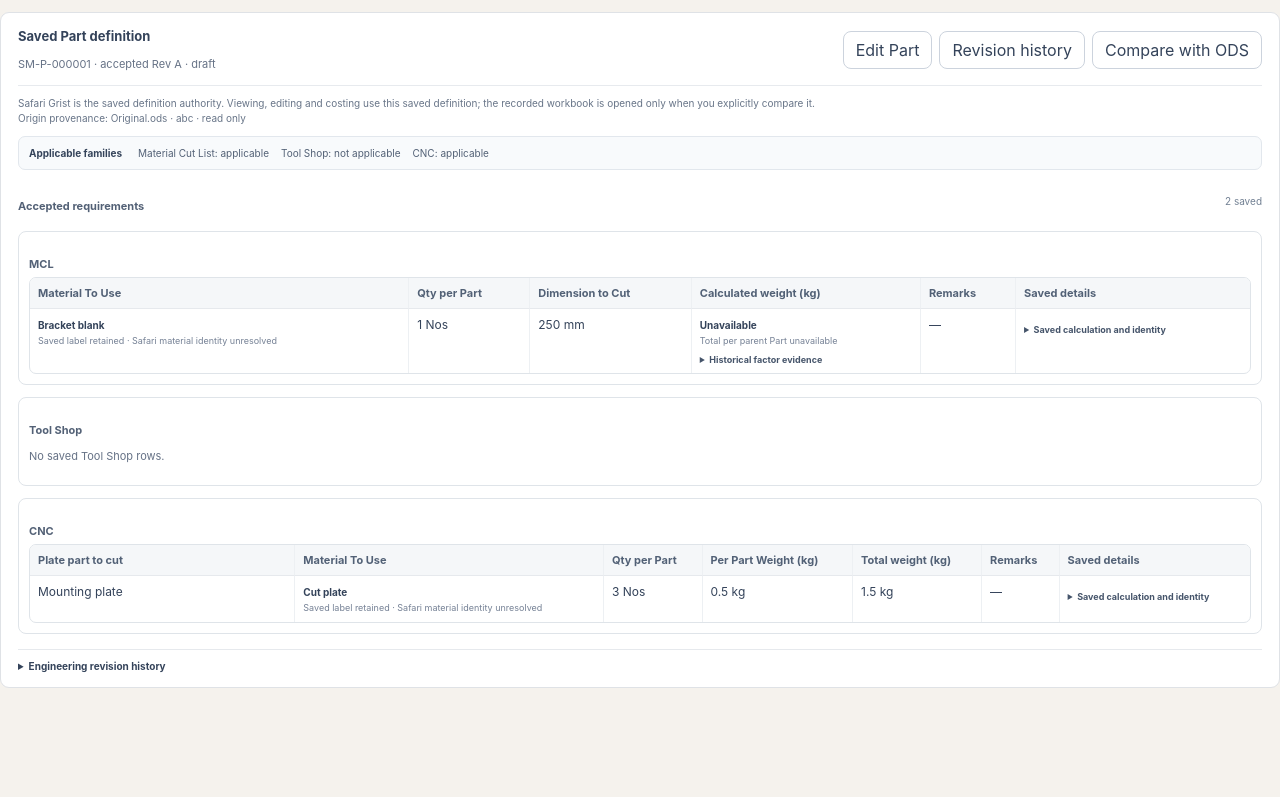
Scenario: shows saved MCL cut length and CNC per-part weight without conflating total weight
Check: the text "250 mm" is shown, box 530,308 -> 692,373
Check: the text "0.5 kg" is shown, box 702,576 -> 853,622
Click the heading "Saved calculation and identity" in the row of "Mounting plate": (1143,597) 1077,591 -> 1209,602
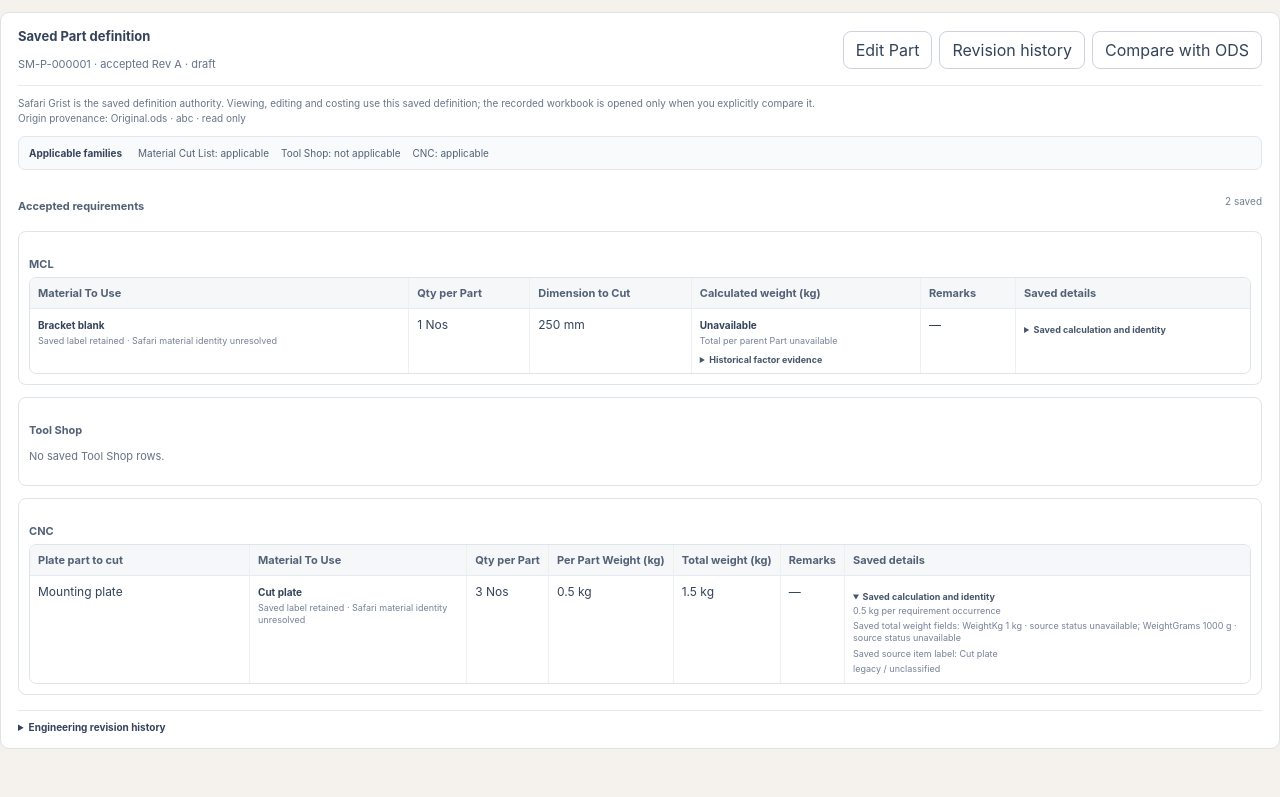
Check: the text "Saved total weight fields: WeightKg 1 kg" is shown, box 853,620 -> 1237,643
Click the button "Edit Part": (888,50) 843,31 -> 932,69
(page scrolled)
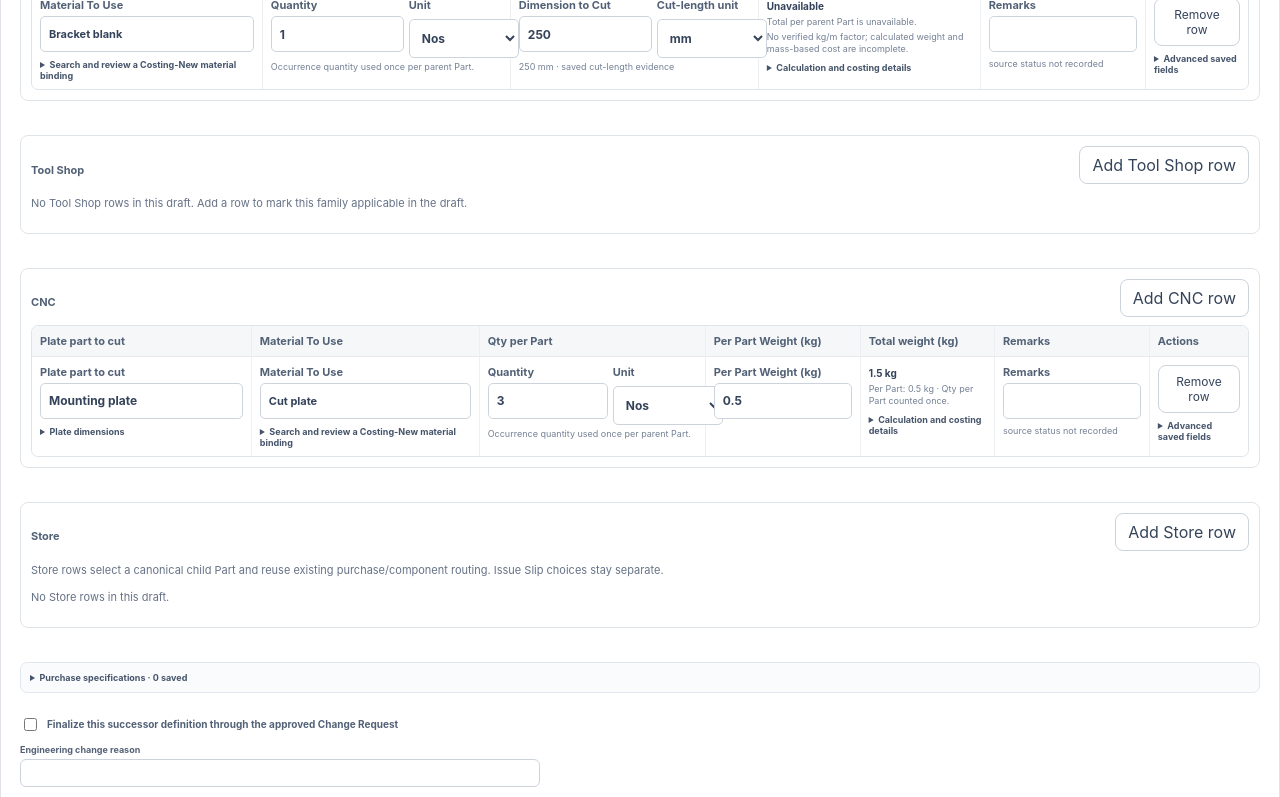
Check: the field named "Dimension to Cut — MCL row 1" holds "250", box 519,16 -> 652,52
Replace the text in the field named "Per Part Weight (kg) — CNC row 1" with "0.6": (783,400) 714,382 -> 852,418
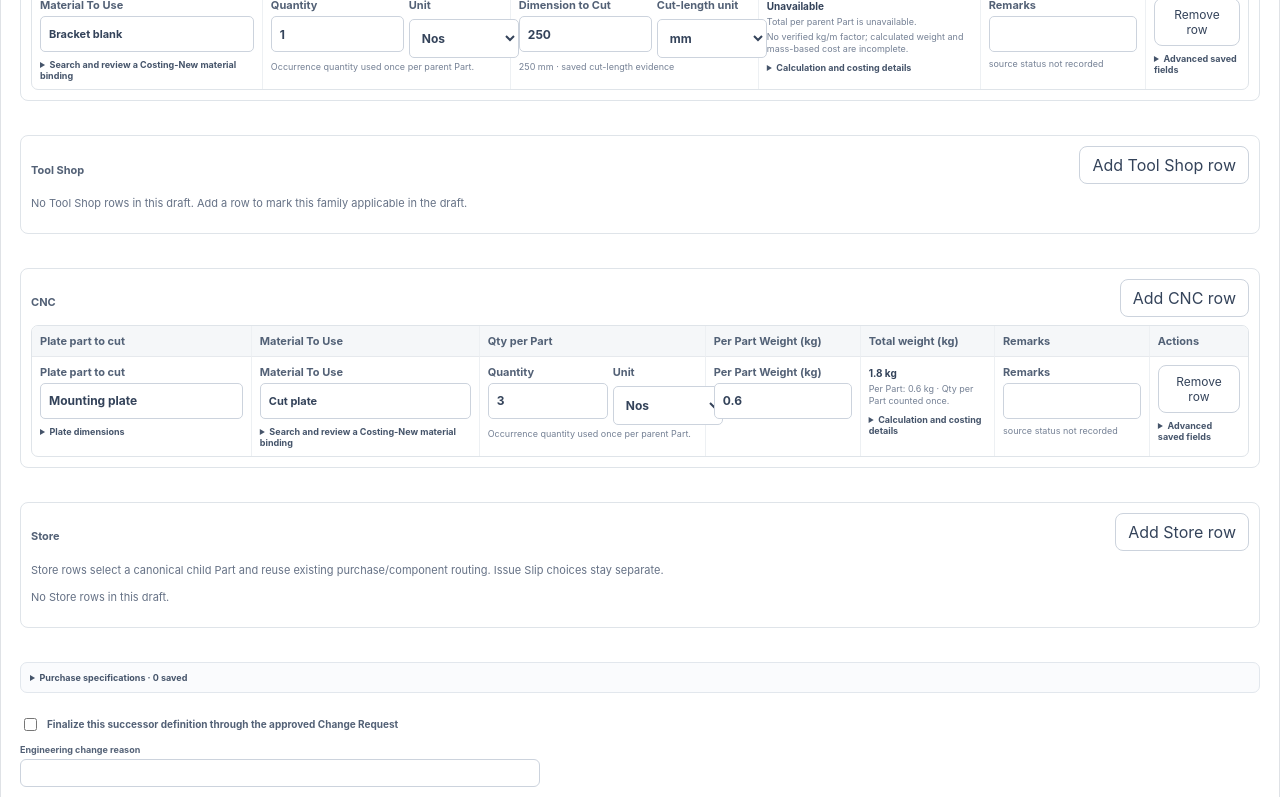
Check: the text "1.8 kg" is shown, box 869,366 -> 897,378
